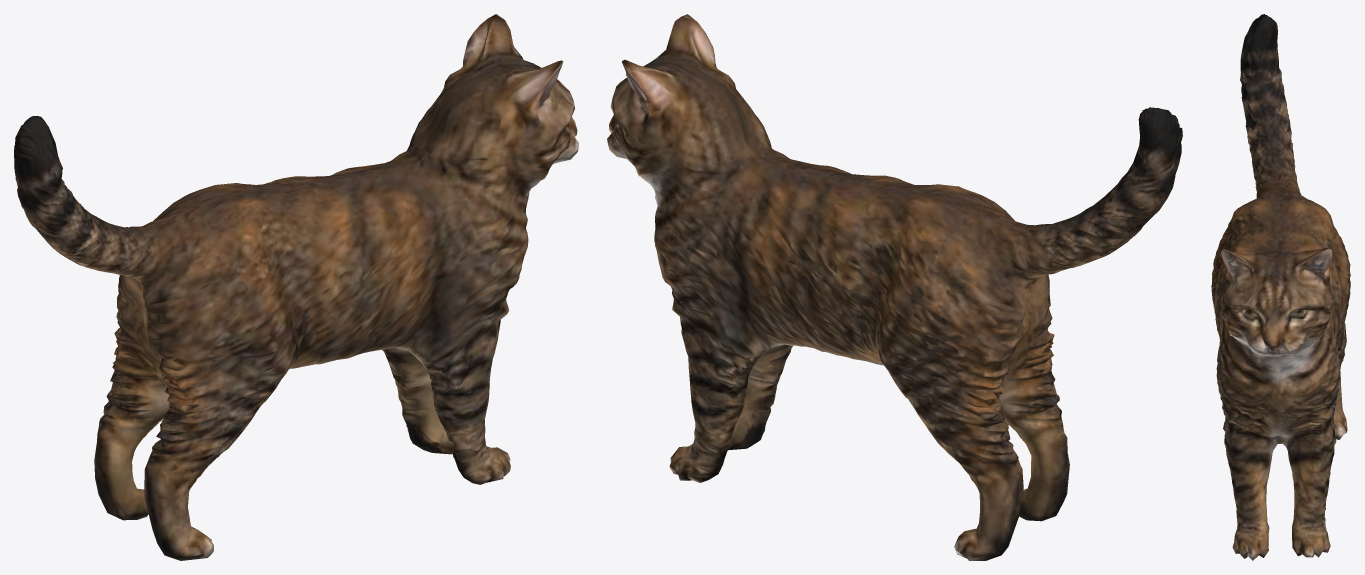
File: DREAMPATCH-lo.glb
3 renders of one model, left to right at view 1: azimuth 30°, elevation 25°; view 2: azimuth 150°, elevation 25°; view 3: azimuth 270°, elevation 25°, orthographic. The views are drawn at different scales.
Visible parts, largest first — view 1: tripo_node_05c58a4c-5ed2-486e-bd88-3d7cb77b3fb6; view 2: tripo_node_05c58a4c-5ed2-486e-bd88-3d7cb77b3fb6; view 3: tripo_node_05c58a4c-5ed2-486e-bd88-3d7cb77b3fb6.
Boxes of the visible parts, x1,y1,x2,y2 form: tripo_node_05c58a4c-5ed2-486e-bd88-3d7cb77b3fb6: (14, 14, 578, 560); tripo_node_05c58a4c-5ed2-486e-bd88-3d7cb77b3fb6: (607, 14, 1182, 560); tripo_node_05c58a4c-5ed2-486e-bd88-3d7cb77b3fb6: (1211, 14, 1350, 560).
Bounding box in the file's own units: 1.3 × 0.9983 × 0.346.
Materials: 1 (1 with a texture image).
